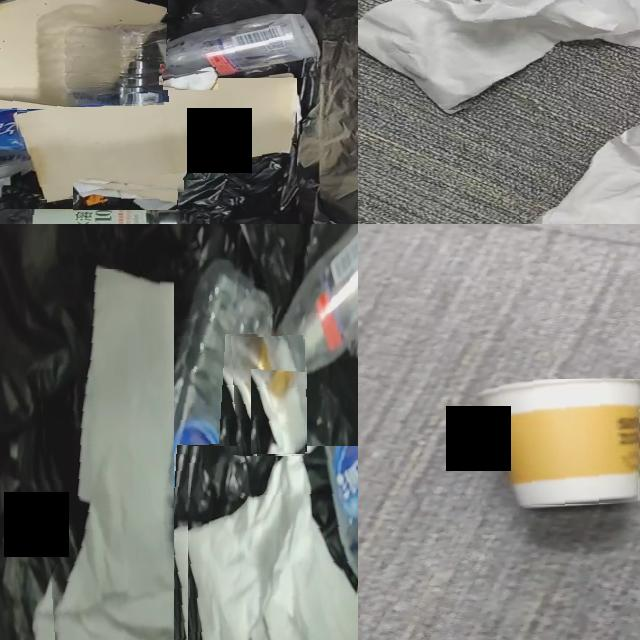bottle: (152, 260, 272, 640), (266, 224, 358, 398), (151, 14, 318, 81), (0, 28, 47, 195), (0, 209, 188, 224)
carton: (17, 78, 297, 199), (0, 0, 168, 107)
dixie_cup: (482, 379, 640, 507)
paper: (50, 269, 174, 640), (188, 446, 358, 640), (358, 0, 640, 111), (533, 126, 640, 224), (233, 338, 305, 456), (251, 371, 306, 454), (74, 182, 177, 210), (163, 71, 218, 90)
